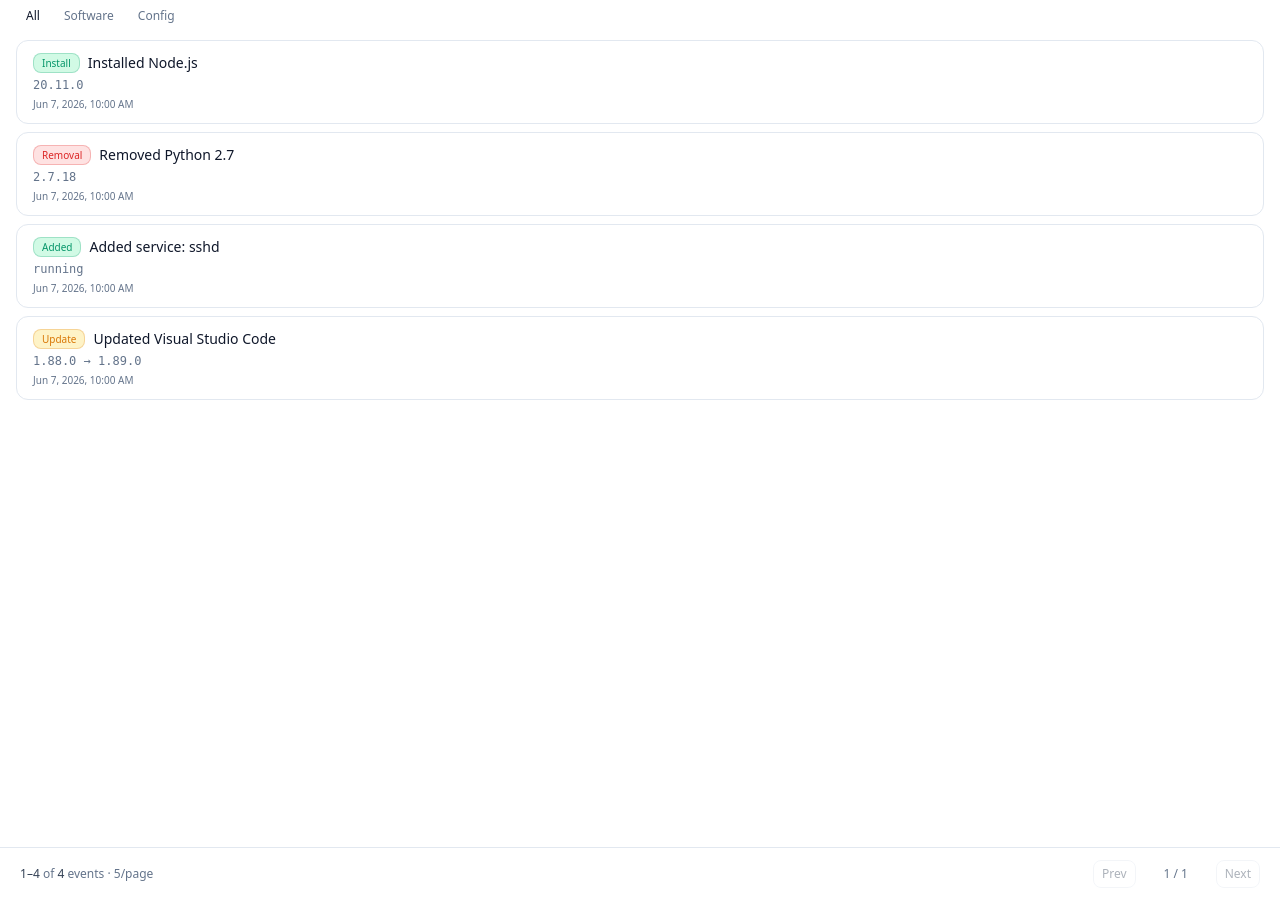
Test: TimelineEventList › filters to software category
Click the button "Software". click: x=89, y=16
box: [54,4,124,28]
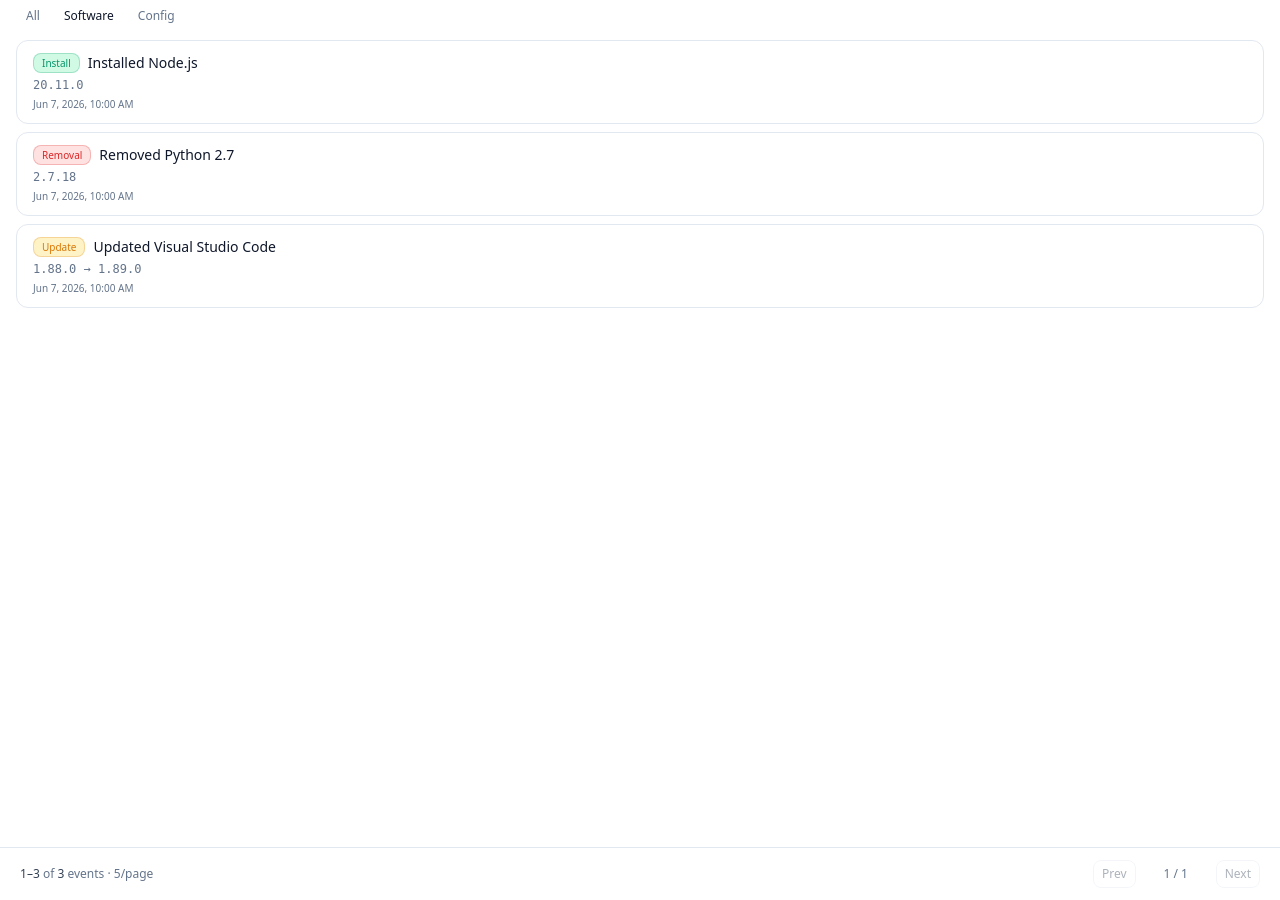
Check: the text "Installed Node.js" is shown, box [88,53,198,73]
Check: the text "Added service: sshd" is gone
